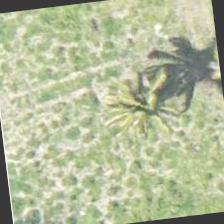Kelapa_Sawit: (97, 50, 197, 150)
